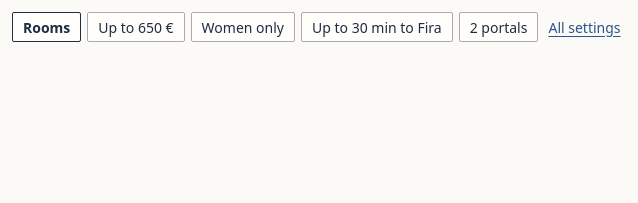
Test: cancel closes the editor without saving
This screenshot has width=638, height=203.
Click the button "Women only".
click(243, 27)  # box [191, 12, 295, 42]
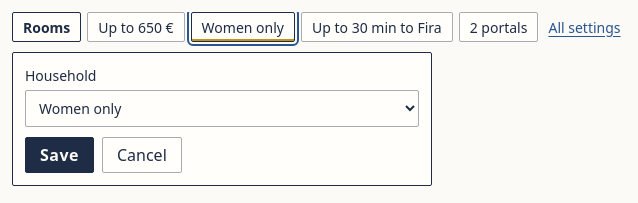
Click the button "Cancel".
click(142, 155)  # box [102, 137, 182, 173]
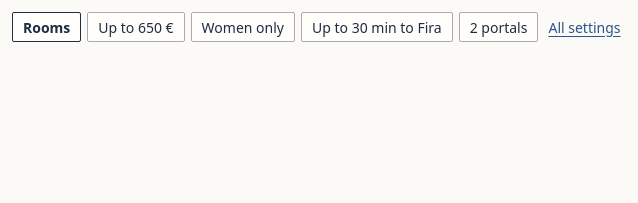
Expected: the button "Save" is gone
